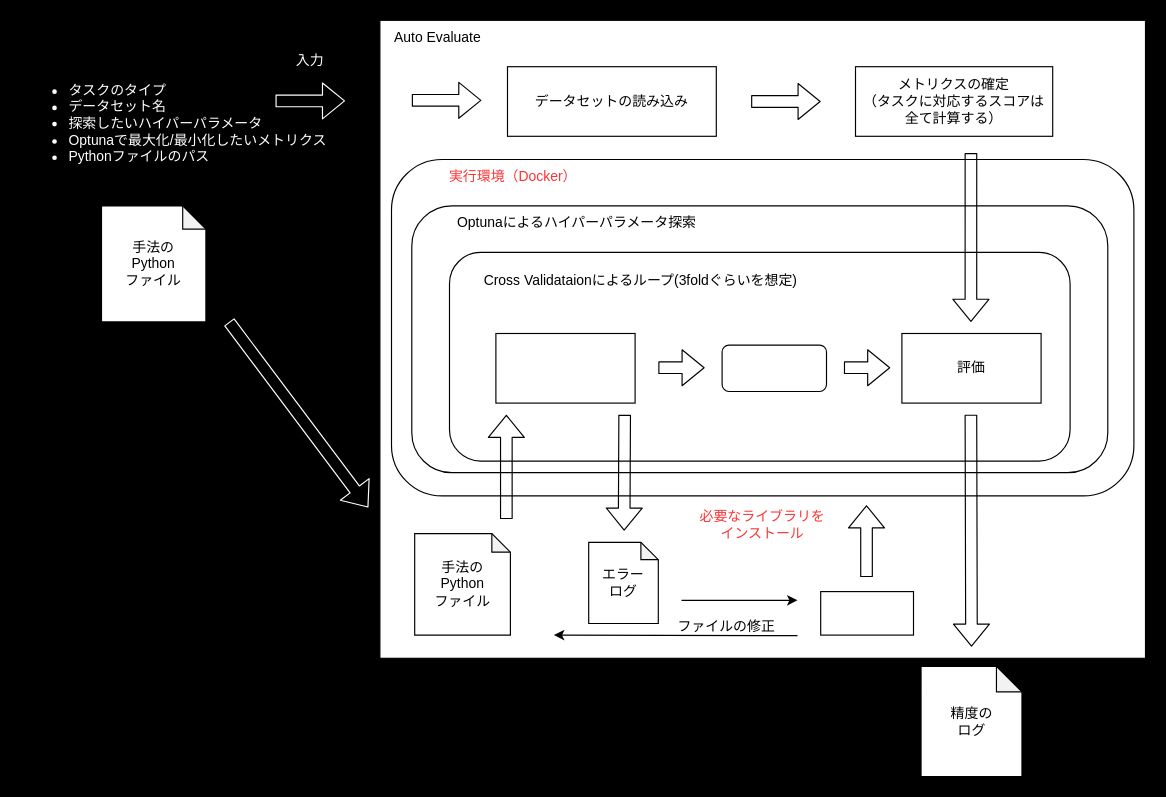
Image size: 1166x797. Some labels were removed from this diagram. The centre of each missing label's shape, as x and y in pixels:
"LLM" goes at point 866,612.
"モデル" goes at point 773,368.
"学習" goes at point 565,367.
